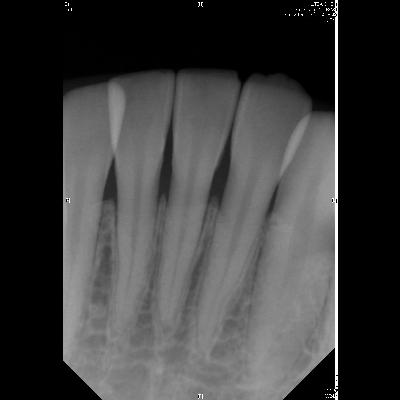tooth: (189, 69, 313, 361), (150, 66, 242, 339), (104, 68, 176, 344)
